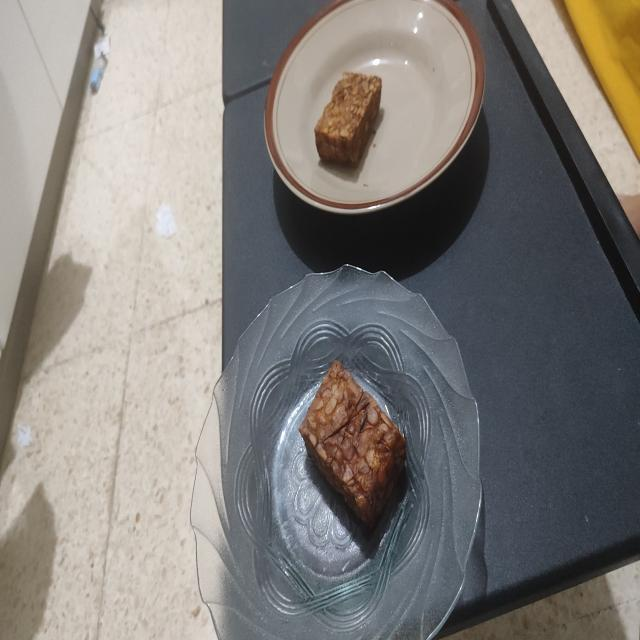tempe_goreng: (298, 361, 406, 526), (314, 72, 382, 166)
